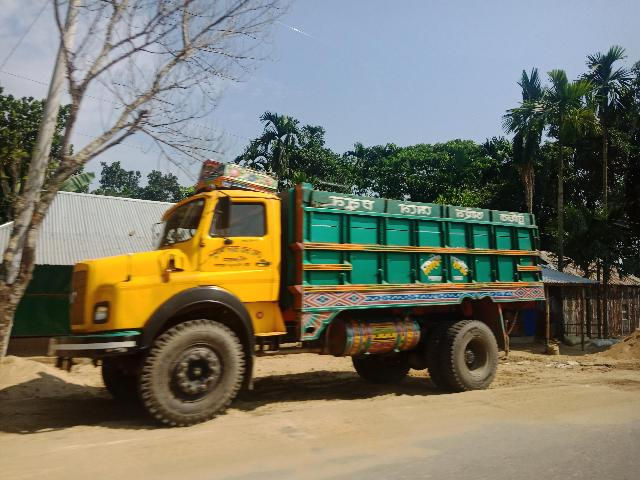truck: (70, 146, 543, 395)
